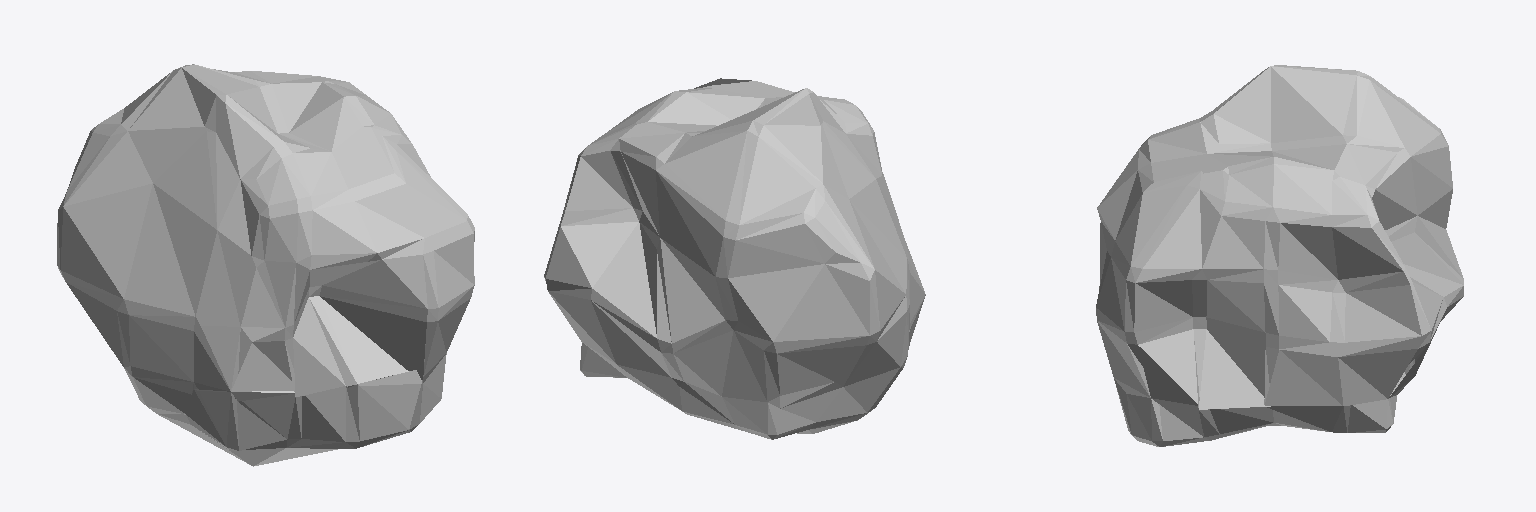
File: smoke.obj
The picture shows the model from 3 angles: view 1: azimuth 30°, elevation 25°; view 2: azimuth 150°, elevation 25°; view 3: azimuth 270°, elevation 25°; orthographic projection.
Visible parts, largest first — view 1: Cube; view 2: Cube; view 3: Cube.
Part boxes in pixels (x1,y1,x2,y2): Cube: (57,64,474,466); Cube: (544,78,925,439); Cube: (1096,65,1463,446).
Size of the model in its own units: 6.4 by 6.88 by 6.63.